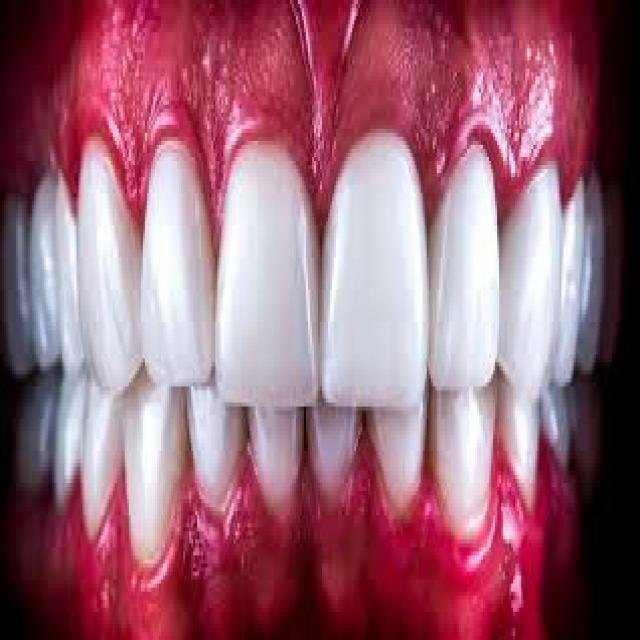tooth: (215, 120, 322, 418), (322, 137, 431, 414), (139, 72, 215, 414), (72, 96, 143, 406), (437, 125, 501, 398), (503, 133, 562, 406), (125, 358, 187, 568), (437, 367, 497, 548), (368, 374, 433, 524), (76, 370, 123, 556), (189, 371, 250, 512), (310, 374, 368, 516), (249, 386, 308, 512), (504, 366, 542, 520)
